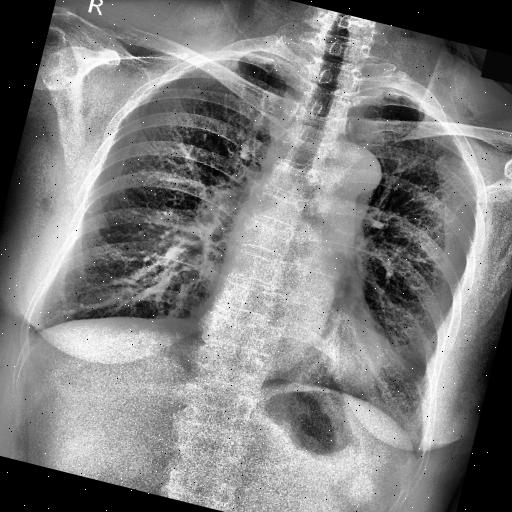0- Aortic enlargement: (302, 132, 386, 218), (307, 133, 389, 205), (304, 128, 388, 196)
11- Pleural thickening: (230, 41, 304, 76), (360, 76, 426, 109)
3- Cardiomegaly: (182, 270, 412, 405)
